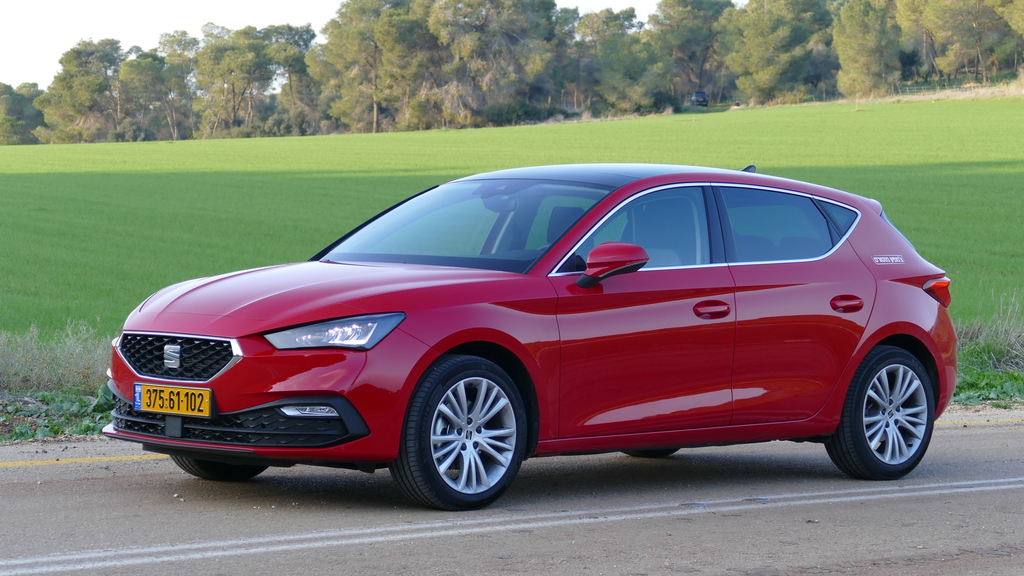licence: (133, 380, 212, 420)
